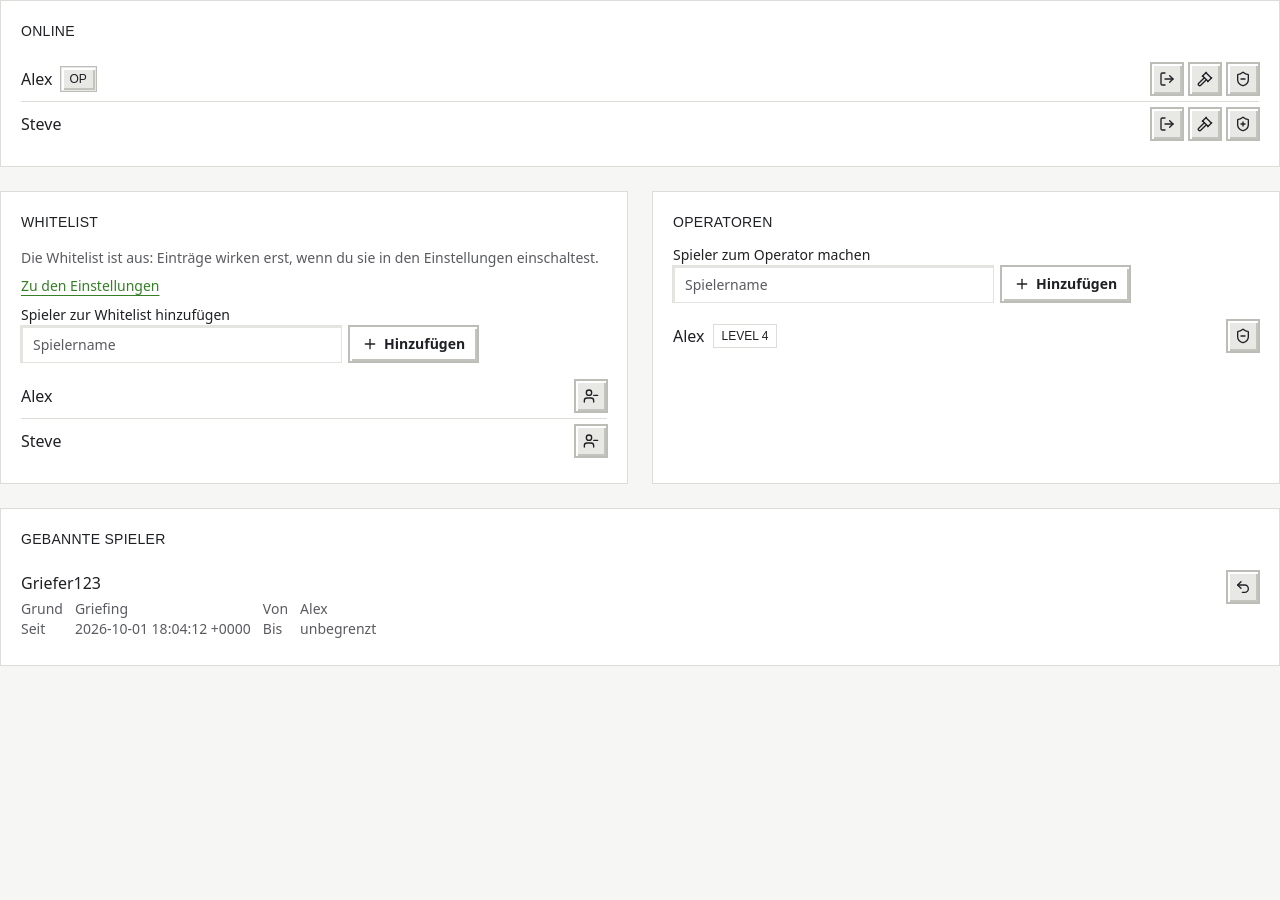
PlayersTab › bans a player with a reason
Click the button named "Steve bannen" at point(1205, 124), box 1189,108 -> 1221,140
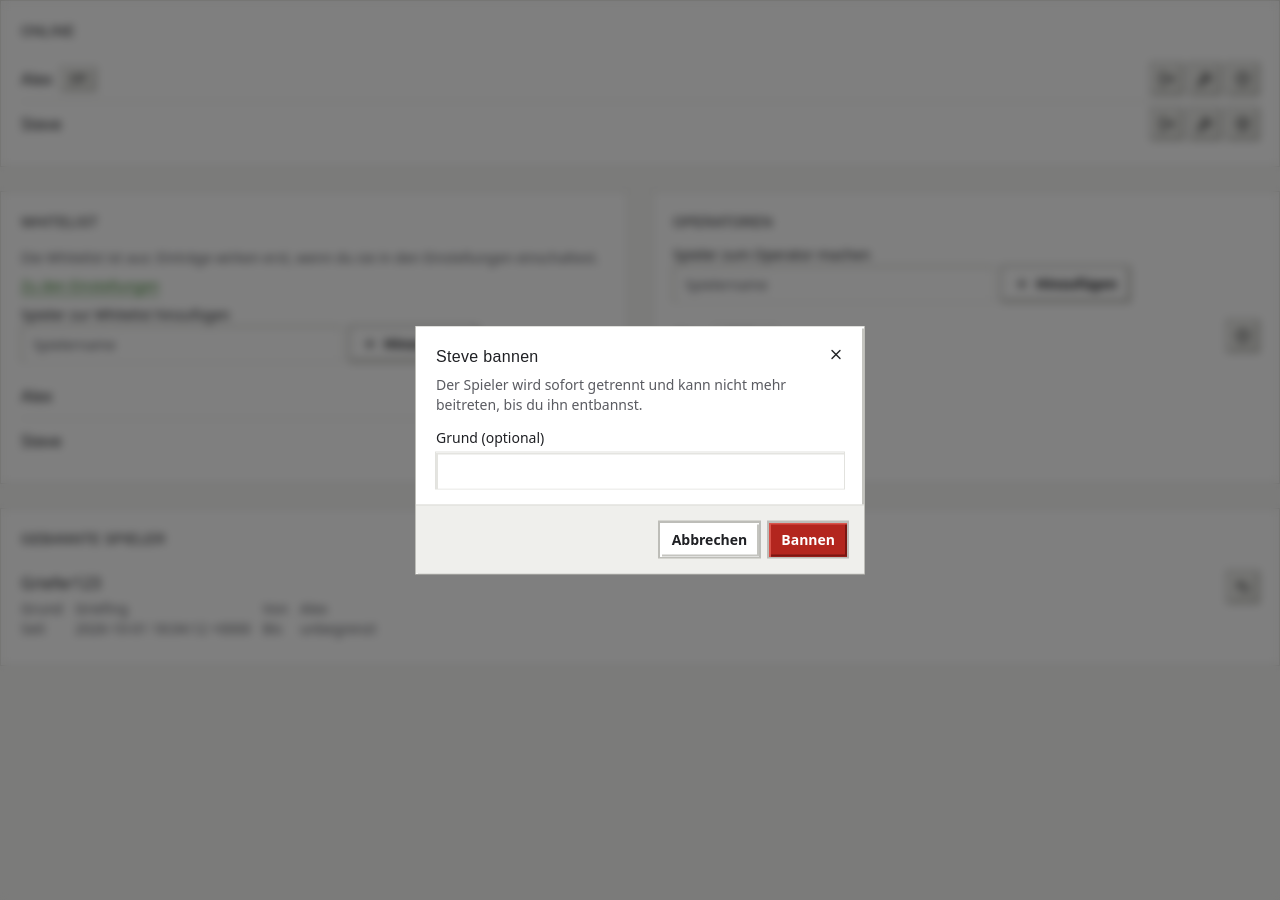
Type "griefing" into the field labelled "Grund (optional)" at point(640, 470), box 436,452 -> 844,488
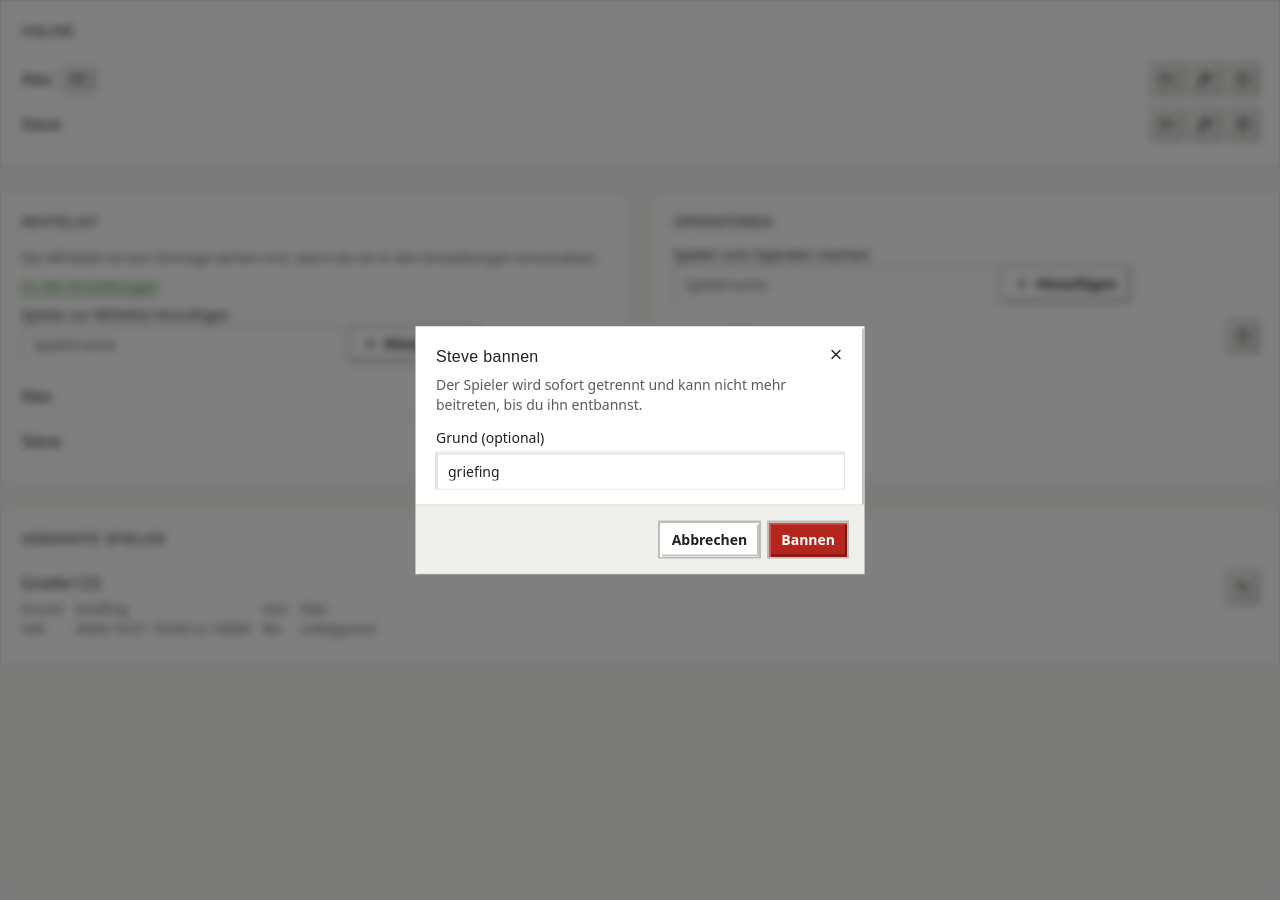
Click the button "Bannen" at point(808, 540), box 768,522 -> 848,558
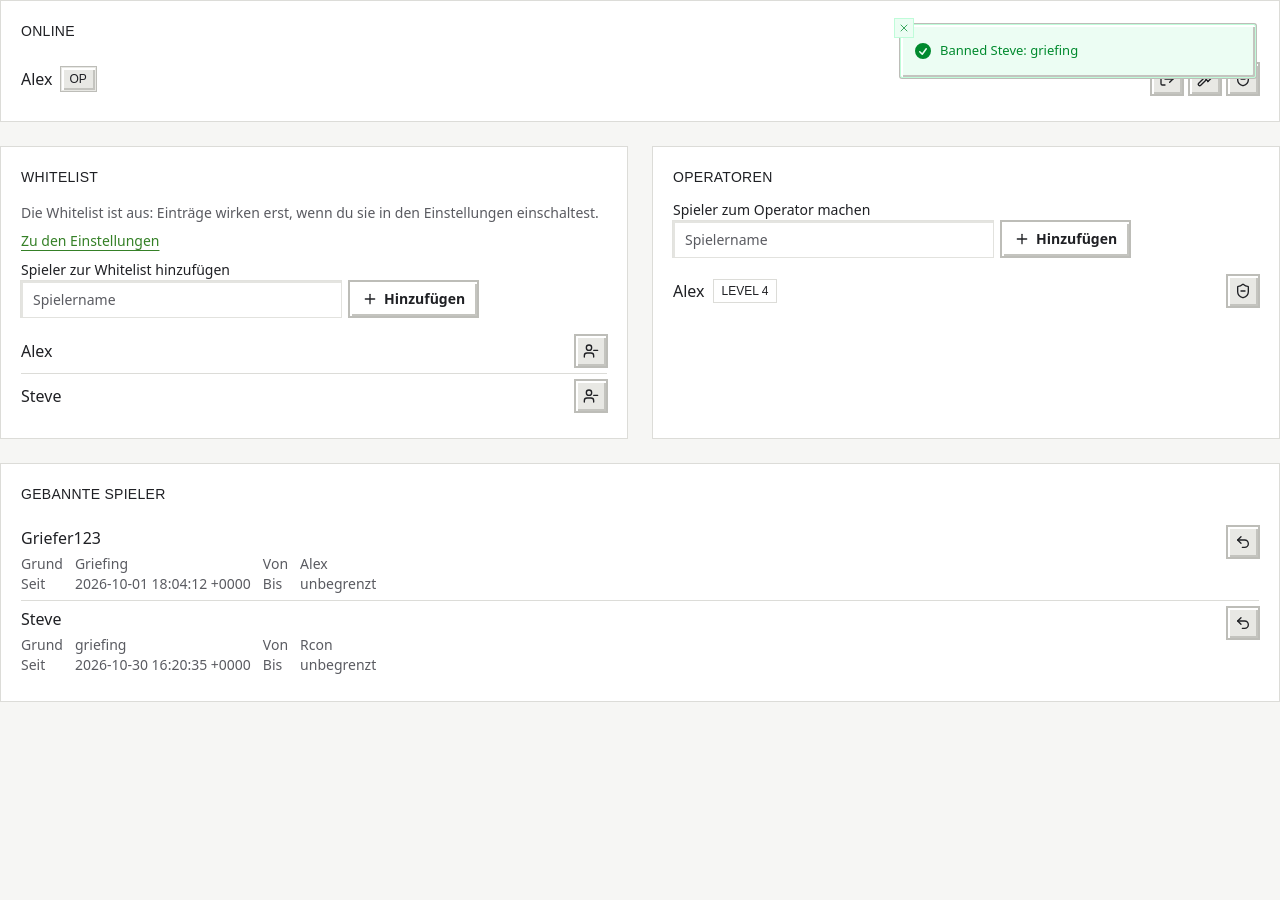
Now the dialog is gone
Now the text "griefing" is shown, box 75,635 -> 126,654
Now the button named "Steve entbannen" is shown, box 1227,607 -> 1259,639
